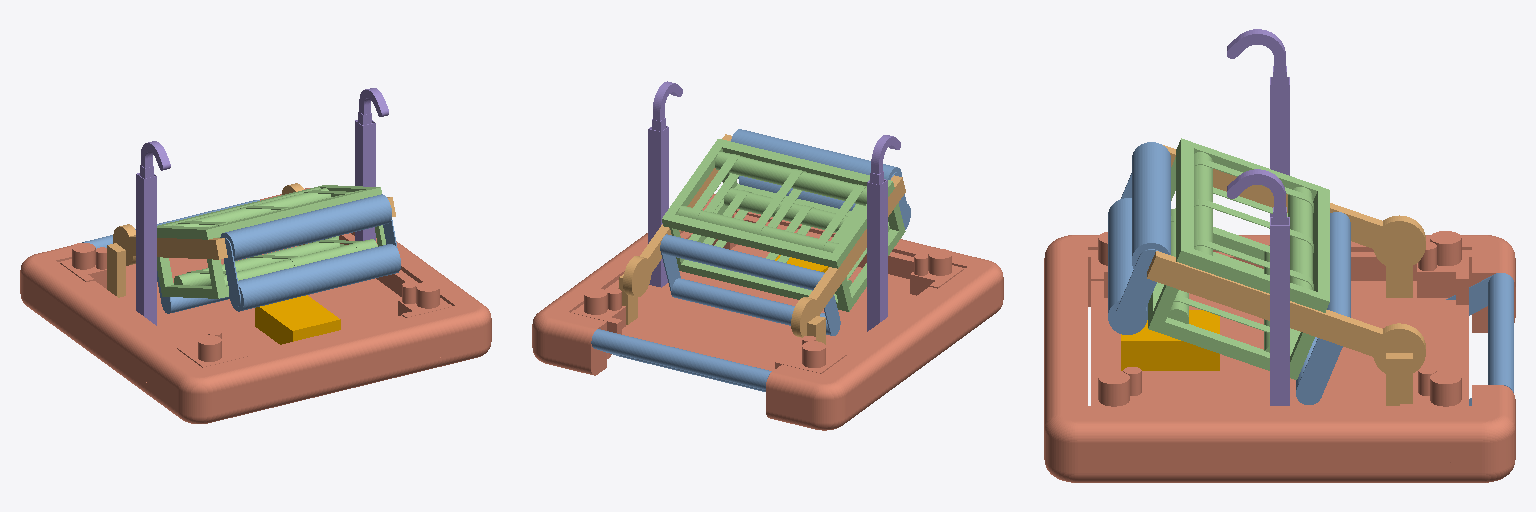
robot.urdf — C:\Code\my-robot:
<?xml version="1.0" ?>
<!-- Generated using onshape-to-robot -->
<!-- Onshape document_id: 8b5b6ea4aa5d45dd076e7ef6 -->
<robot name="C:\Code\my-robot">
  <!-- Link swerve__aac1e981ec072e04fdcf02d311d393be -->
  <link name="swerve__aac1e981ec072e04fdcf02d311d393be">
    <inertial>
      <origin xyz="1.38778e-17 -0.218734 0.03175" rpy="0 0 0"/>
      <mass value="13.2658"/>
      <inertia ixx="0.044576" ixy="0" ixz="0" iyy="0.0260324" iyz="0" izz="0.0616932"/>
    </inertial>
    <!-- Part weight -->
    <visual>
      <origin xyz="-0.06985 -0.313984 0.0635" rpy="3.14159 -0 0"/>
      <geometry>
        <mesh filename="package://assets\weight.stl"/>
      </geometry>
      <material name="weight_material">
        <color rgba="0.980392 0.713725 0.00392157 1.0"/>
      </material>
    </visual>
    <collision>
      <origin xyz="-0.06985 -0.313984 0.0635" rpy="3.14159 -0 0"/>
      <geometry>
        <mesh filename="package://assets\weight.stl"/>
      </geometry>
    </collision>
    <!-- Part generic_structure_piece__7db8c0a4a3a477c2fe3454001be9dcb5 -->
    <visual>
      <origin xyz="-0.27305 0.219416 0.0635" rpy="1.5708 -0 0"/>
      <geometry>
        <mesh filename="package://assets\generic_structure_piece__7db8c0a4a3a477c2fe3454001be9dcb5.stl"/>
      </geometry>
      <material name="generic_structure_piece__7db8c0a4a3a477c2fe3454001be9dcb5_material">
        <color rgba="0.917647 0.72549 0.490196 1.0"/>
      </material>
    </visual>
    <collision>
      <origin xyz="-0.27305 0.219416 0.0635" rpy="1.5708 -0 0"/>
      <geometry>
        <mesh filename="package://assets\generic_structure_piece__7db8c0a4a3a477c2fe3454001be9dcb5.stl"/>
      </geometry>
    </collision>
    <!-- Part swerve__2f06a5375ff9745c7beb3236907a4558 -->
    <visual>
      <origin xyz="7.35718e-18 -0.00918414 -0.06985" rpy="0 -0 0"/>
      <geometry>
        <mesh filename="package://assets\swerve__2f06a5375ff9745c7beb3236907a4558.stl"/>
      </geometry>
      <material name="swerve__2f06a5375ff9745c7beb3236907a4558_material">
        <color rgba="0.882353 0.572549 0.478431 1.0"/>
      </material>
    </visual>
    <collision>
      <origin xyz="7.35718e-18 -0.00918414 -0.06985" rpy="0 -0 0"/>
      <geometry>
        <mesh filename="package://assets\swerve__2f06a5375ff9745c7beb3236907a4558.stl"/>
      </geometry>
    </collision>
    <!-- Part horizontal_roller__fb9e0fac6f99e159a67c7bf116795558 -->
    <visual>
      <origin xyz="1.66533e-16 0.282128 -0.04445" rpy="2.61799 -8.32667e-17 -3.14159"/>
      <geometry>
        <mesh filename="package://assets\horizontal_roller__fb9e0fac6f99e159a67c7bf116795558.stl"/>
      </geometry>
      <material name="horizontal_roller__fb9e0fac6f99e159a67c7bf116795558_material">
        <color rgba="0.541176 0.682353 0.839216 1.0"/>
      </material>
    </visual>
    <collision>
      <origin xyz="1.66533e-16 0.282128 -0.04445" rpy="2.61799 -8.32667e-17 -3.14159"/>
      <geometry>
        <mesh filename="package://assets\horizontal_roller__fb9e0fac6f99e159a67c7bf116795558.stl"/>
      </geometry>
    </collision>
    <!-- Part generic_structure_piece__7db8c0a4a3a477c2fe3454001be9dcb5_2 -->
    <visual>
      <origin xyz="0.27305 0.219416 0.0635" rpy="1.5708 -0 0"/>
      <geometry>
        <mesh filename="package://assets\generic_structure_piece__7db8c0a4a3a477c2fe3454001be9dcb5.stl"/>
      </geometry>
      <material name="generic_structure_piece__7db8c0a4a3a477c2fe3454001be9dcb5_2_material">
        <color rgba="0.917647 0.72549 0.490196 1.0"/>
      </material>
    </visual>
    <collision>
      <origin xyz="0.27305 0.219416 0.0635" rpy="1.5708 -0 0"/>
      <geometry>
        <mesh filename="package://assets\generic_structure_piece__7db8c0a4a3a477c2fe3454001be9dcb5.stl"/>
      </geometry>
    </collision>
    <!-- Part stage_1__484c10e432fd6bf4e16cde51157dc6f1 -->
    <visual>
      <origin xyz="-0.3175 -0.00918414 1.01828e-15" rpy="-1.75137e-15 8.16075e-16 1.5708"/>
      <geometry>
        <mesh filename="package://assets\stage_1__484c10e432fd6bf4e16cde51157dc6f1.stl"/>
      </geometry>
      <material name="stage_1__484c10e432fd6bf4e16cde51157dc6f1_material">
        <color rgba="0.654902 0.584314 0.823529 1.0"/>
      </material>
    </visual>
    <collision>
      <origin xyz="-0.3175 -0.00918414 1.01828e-15" rpy="-1.75137e-15 8.16075e-16 1.5708"/>
      <geometry>
        <mesh filename="package://assets\stage_1__484c10e432fd6bf4e16cde51157dc6f1.stl"/>
      </geometry>
    </collision>
    <!-- Part stage_2__484c10e432fd6bf4e16cde51157dc6f1 -->
    <visual>
      <origin xyz="-0.3175 -0.00918414 3.33637e-17" rpy="-1.75137e-15 2.08505e-16 1.5708"/>
      <geometry>
        <mesh filename="package://assets\stage_2__484c10e432fd6bf4e16cde51157dc6f1.stl"/>
      </geometry>
      <material name="stage_2__484c10e432fd6bf4e16cde51157dc6f1_material">
        <color rgba="0.654902 0.584314 0.823529 1.0"/>
      </material>
    </visual>
    <collision>
      <origin xyz="-0.3175 -0.00918414 3.33637e-17" rpy="-1.75137e-15 2.08505e-16 1.5708"/>
      <geometry>
        <mesh filename="package://assets\stage_2__484c10e432fd6bf4e16cde51157dc6f1.stl"/>
      </geometry>
    </collision>
    <!-- Part stage_1__484c10e432fd6bf4e16cde51157dc6f1_2 -->
    <visual>
      <origin xyz="0.3175 -0.00918414 9.53231e-16" rpy="4.66044e-16 8.16075e-16 1.5708"/>
      <geometry>
        <mesh filename="package://assets\stage_1__484c10e432fd6bf4e16cde51157dc6f1.stl"/>
      </geometry>
      <material name="stage_1__484c10e432fd6bf4e16cde51157dc6f1_2_material">
        <color rgba="0.654902 0.584314 0.823529 1.0"/>
      </material>
    </visual>
    <collision>
      <origin xyz="0.3175 -0.00918414 9.53231e-16" rpy="4.66044e-16 8.16075e-16 1.5708"/>
      <geometry>
        <mesh filename="package://assets\stage_1__484c10e432fd6bf4e16cde51157dc6f1.stl"/>
      </geometry>
    </collision>
    <!-- Part stage_2__484c10e432fd6bf4e16cde51157dc6f1_2 -->
    <visual>
      <origin xyz="0.3175 -0.00918414 -3.33637e-17" rpy="-1.75137e-15 2.08505e-16 1.5708"/>
      <geometry>
        <mesh filename="package://assets\stage_2__484c10e432fd6bf4e16cde51157dc6f1.stl"/>
      </geometry>
      <material name="stage_2__484c10e432fd6bf4e16cde51157dc6f1_2_material">
        <color rgba="0.654902 0.584314 0.823529 1.0"/>
      </material>
    </visual>
    <collision>
      <origin xyz="0.3175 -0.00918414 -3.33637e-17" rpy="-1.75137e-15 2.08505e-16 1.5708"/>
      <geometry>
        <mesh filename="package://assets\stage_2__484c10e432fd6bf4e16cde51157dc6f1.stl"/>
      </geometry>
    </collision>
  </link>
  <!-- Link arm_segment__f3d596783f9f1a53aca529c3683d15b7 -->
  <link name="arm_segment__f3d596783f9f1a53aca529c3683d15b7">
    <inertial>
      <origin xyz="0 0 0" rpy="0 0 0"/>
      <mass value="1e-09"/>
      <inertia ixx="1e-09" ixy="0" ixz="0" iyy="1e-09" iyz="0" izz="1e-09"/>
    </inertial>
    <!-- Part arm_segment__f3d596783f9f1a53aca529c3683d15b7 -->
    <visual>
      <origin xyz="-0.254 0 -0.0127" rpy="-1.5708 -1.5708 0"/>
      <geometry>
        <mesh filename="package://assets\arm_segment__f3d596783f9f1a53aca529c3683d15b7.stl"/>
      </geometry>
      <material name="arm_segment__f3d596783f9f1a53aca529c3683d15b7_material">
        <color rgba="0.917647 0.72549 0.490196 1.0"/>
      </material>
    </visual>
    <collision>
      <origin xyz="-0.254 0 -0.0127" rpy="-1.5708 -1.5708 0"/>
      <geometry>
        <mesh filename="package://assets\arm_segment__f3d596783f9f1a53aca529c3683d15b7.stl"/>
      </geometry>
    </collision>
    <!-- Part configurable_ball_tunnel__94c8332c3d2a75d8e1ad241703f6312b -->
    <visual>
      <origin xyz="-0.314097 -0.0381 -0.26035" rpy="-3.14159 -1.5708 0"/>
      <geometry>
        <mesh filename="package://assets\configurable_ball_tunnel__94c8332c3d2a75d8e1ad241703f6312b.stl"/>
      </geometry>
      <material name="configurable_ball_tunnel__94c8332c3d2a75d8e1ad241703f6312b_material">
        <color rgba="0.654902 0.823529 0.576471 1.0"/>
      </material>
    </visual>
    <collision>
      <origin xyz="-0.314097 -0.0381 -0.26035" rpy="-3.14159 -1.5708 0"/>
      <geometry>
        <mesh filename="package://assets\configurable_ball_tunnel__94c8332c3d2a75d8e1ad241703f6312b.stl"/>
      </geometry>
    </collision>
    <!-- Part arm_segment__f3d596783f9f1a53aca529c3683d15b7_2 -->
    <visual>
      <origin xyz="-0.254 -3.60822e-16 -0.50165" rpy="-1.5708 -1.5708 0"/>
      <geometry>
        <mesh filename="package://assets\arm_segment__f3d596783f9f1a53aca529c3683d15b7.stl"/>
      </geometry>
      <material name="arm_segment__f3d596783f9f1a53aca529c3683d15b7_2_material">
        <color rgba="0.917647 0.72549 0.490196 1.0"/>
      </material>
    </visual>
    <collision>
      <origin xyz="-0.254 -3.60822e-16 -0.50165" rpy="-1.5708 -1.5708 0"/>
      <geometry>
        <mesh filename="package://assets\arm_segment__f3d596783f9f1a53aca529c3683d15b7.stl"/>
      </geometry>
    </collision>
    <!-- Part horizontal_roller__63510fac1804c212f223d5df13e26088 -->
    <visual>
      <origin xyz="-0.508 4.71845e-16 -0.257175" rpy="3.14159 1.5708 0"/>
      <geometry>
        <mesh filename="package://assets\horizontal_roller__63510fac1804c212f223d5df13e26088.stl"/>
      </geometry>
      <material name="horizontal_roller__63510fac1804c212f223d5df13e26088_material">
        <color rgba="0.541176 0.682353 0.839216 1.0"/>
      </material>
    </visual>
    <collision>
      <origin xyz="-0.508 4.71845e-16 -0.257175" rpy="3.14159 1.5708 0"/>
      <geometry>
        <mesh filename="package://assets\horizontal_roller__63510fac1804c212f223d5df13e26088.stl"/>
      </geometry>
    </collision>
    <!-- Part horizontal_roller__9351daac2b97eade60ab45f49190e71a -->
    <visual>
      <origin xyz="-0.127 -0.1524 -0.257175" rpy="1.6583e-15 -1.5708 0"/>
      <geometry>
        <mesh filename="package://assets\horizontal_roller__9351daac2b97eade60ab45f49190e71a.stl"/>
      </geometry>
      <material name="horizontal_roller__9351daac2b97eade60ab45f49190e71a_material">
        <color rgba="0.541176 0.682353 0.839216 1.0"/>
      </material>
    </visual>
    <collision>
      <origin xyz="-0.127 -0.1524 -0.257175" rpy="1.6583e-15 -1.5708 0"/>
      <geometry>
        <mesh filename="package://assets\horizontal_roller__9351daac2b97eade60ab45f49190e71a.stl"/>
      </geometry>
    </collision>
  </link>
  <!-- Joint from swerve__aac1e981ec072e04fdcf02d311d393be to arm_segment__f3d596783f9f1a53aca529c3683d15b7 -->
  <joint name="FRC_intake" type="revolute">
    <origin xyz="0.26035 0.219416 0.127" rpy="1.5708 0.364702 1.5708"/>
    <parent link="swerve__aac1e981ec072e04fdcf02d311d393be"/>
    <child link="arm_segment__f3d596783f9f1a53aca529c3683d15b7"/>
    <axis xyz="0 0 1"/>
    <limit effort="10" velocity="10" lower="-3.141592653589793" upper="3.141592653589793"/>
  </joint>
</robot>

--- What the picture shows (computed from the rendered views, not written in the file) ---
The picture shows the robot from 3 angles, left to right: view 1: azimuth 30°, elevation 25°; view 2: azimuth 150°, elevation 25°; view 3: azimuth 270°, elevation 25°; orthographic projection.
Model C:\Code\my-robot with 2 links and 1 joints (1 revolute), rooted at swerve__aac1e981ec072e04fdcf02d311d393be, posed all joints at 0.
Links seen in each view (by area): view 1: swerve__aac1e981ec072e04fdcf02d311d393be, arm_segment__f3d596783f9f1a53aca529c3683d15b7; view 2: swerve__aac1e981ec072e04fdcf02d311d393be, arm_segment__f3d596783f9f1a53aca529c3683d15b7; view 3: swerve__aac1e981ec072e04fdcf02d311d393be, arm_segment__f3d596783f9f1a53aca529c3683d15b7.
Link boxes in pixels (bbox=[...]): swerve__aac1e981ec072e04fdcf02d311d393be: bbox=[20, 88, 491, 423]; arm_segment__f3d596783f9f1a53aca529c3683d15b7: bbox=[113, 183, 400, 313]; swerve__aac1e981ec072e04fdcf02d311d393be: bbox=[532, 81, 1003, 430]; arm_segment__f3d596783f9f1a53aca529c3683d15b7: bbox=[623, 129, 910, 337]; swerve__aac1e981ec072e04fdcf02d311d393be: bbox=[1044, 29, 1515, 482]; arm_segment__f3d596783f9f1a53aca529c3683d15b7: bbox=[1108, 138, 1425, 404].
Bounding box of the posed robot: 0.9017 × 0.9017 × 0.6064 m (x, y, z).
Meshes: 10 distinct files referenced, 14 mesh visuals loaded (10 binary STL).